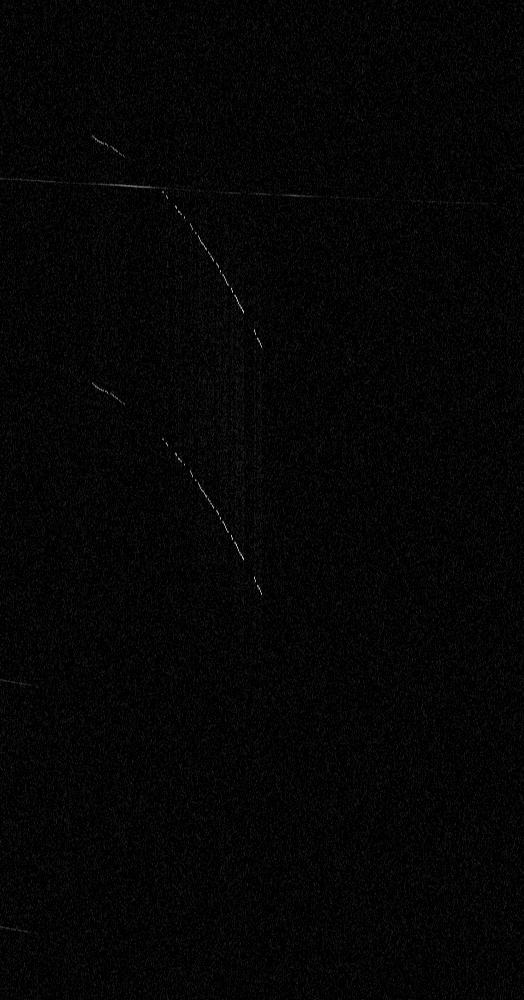signal: (0, 0, 523, 999)
